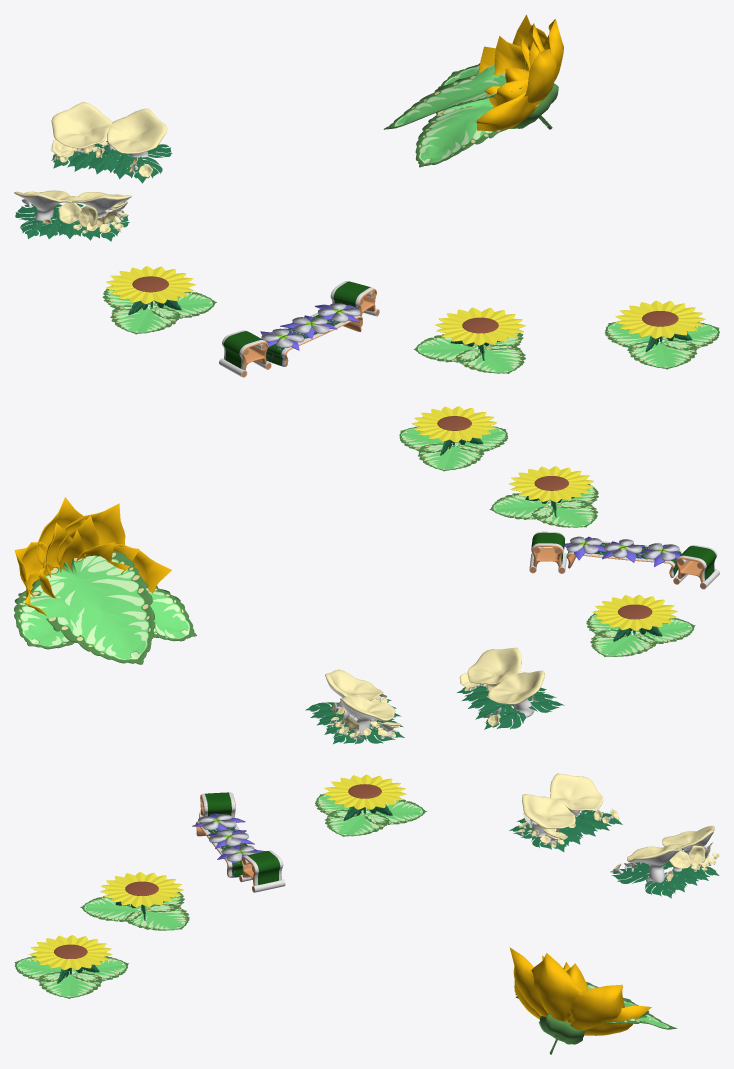
File: FurnitureLvl1.fbx
The picture shows the model from 3 angles, top to bottom: view 1: azimuth 30°, elevation 25°; view 2: azimuth 150°, elevation 25°; view 3: azimuth 270°, elevation 25°; orthographic projection. The views are drawn at different scales.
Visible parts, largest first — view 1: Circle.049, SingleGoldenOysterMushroom.106, Leaf2.001, Leaf2.008, Leaf2.006, Leaf2.005, Leaf2, Circle.059, Circle.055, Circle.094, BigLeaf.013, SingleGoldenOysterMushroom.079 (+7 smaller); view 2: Leaf2, Circle.049, Leaf2.001, SingleGoldenOysterMushroom.079, Leaf2.006, Leaf2.008, Leaf2.005, SingleGoldenOysterMushroom.106, Circle.055, Circle.059, Circle.094, Circle.029 (+6 smaller); view 3: Circle.049, SingleGoldenOysterMushroom.079, Leaf2.008, Leaf2.006, Leaf2.005, SingleGoldenOysterMushroom.106, Circle.059, Circle.094, Circle.055, Circle.029, BigLeaf.011, Cylinder.048 (+6 smaller).
Boxes of the visible parts, x1,y1,x2,y2 form: Circle.049: [476, 14, 563, 131]; SingleGoldenOysterMushroom.106: [51, 102, 167, 161]; Leaf2.001: [415, 63, 506, 167]; Leaf2.008: [605, 321, 719, 369]; Leaf2.006: [413, 333, 525, 373]; Leaf2.005: [102, 285, 216, 334]; Leaf2: [383, 68, 525, 129]; Circle.059: [615, 300, 705, 338]; Circle.055: [435, 307, 525, 345]; Circle.094: [106, 266, 195, 304]; BigLeaf.013: [51, 148, 162, 183]; SingleGoldenOysterMushroom.079: [14, 190, 131, 225]; Leaf2: [30, 550, 155, 664]; Circle.049: [14, 497, 171, 616]; Leaf2.001: [14, 586, 196, 649]; SingleGoldenOysterMushroom.079: [467, 647, 544, 717]; Leaf2.006: [489, 484, 598, 527]; Leaf2.008: [399, 425, 507, 471]; Leaf2.005: [586, 613, 695, 656]; SingleGoldenOysterMushroom.106: [325, 669, 395, 739]; Circle.055: [509, 466, 594, 502]; Circle.059: [411, 406, 497, 442]; Circle.094: [592, 594, 677, 630]; Circle.029: [566, 536, 679, 560]; Circle.049: [509, 947, 651, 1035]; SingleGoldenOysterMushroom.079: [522, 773, 603, 838]; Leaf2.008: [14, 956, 128, 998]; Leaf2.006: [80, 892, 189, 930]; Leaf2.005: [315, 794, 427, 836]; SingleGoldenOysterMushroom.106: [627, 825, 714, 884]; Circle.059: [29, 935, 112, 970]; Circle.094: [323, 774, 406, 809]; Circle.055: [100, 872, 183, 907]; Circle.029: [198, 814, 256, 861]; BigLeaf.011: [531, 810, 622, 851]; Cylinder.048: [241, 850, 283, 885].
Bounding box in the file's own units: 1841 × 356 × 2158.
